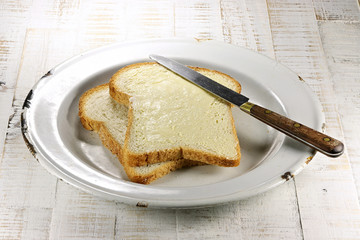slice of bread: (114, 61, 210, 164)
